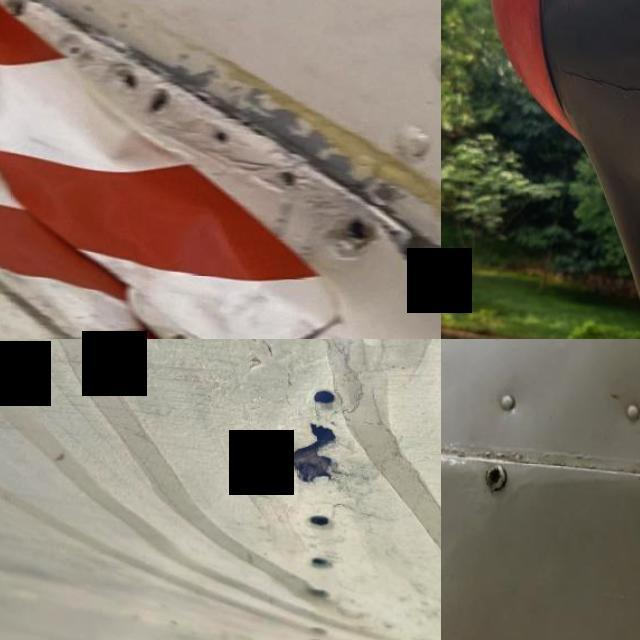Crack: (350, 184, 441, 339), (269, 403, 365, 499), (550, 48, 640, 127)
